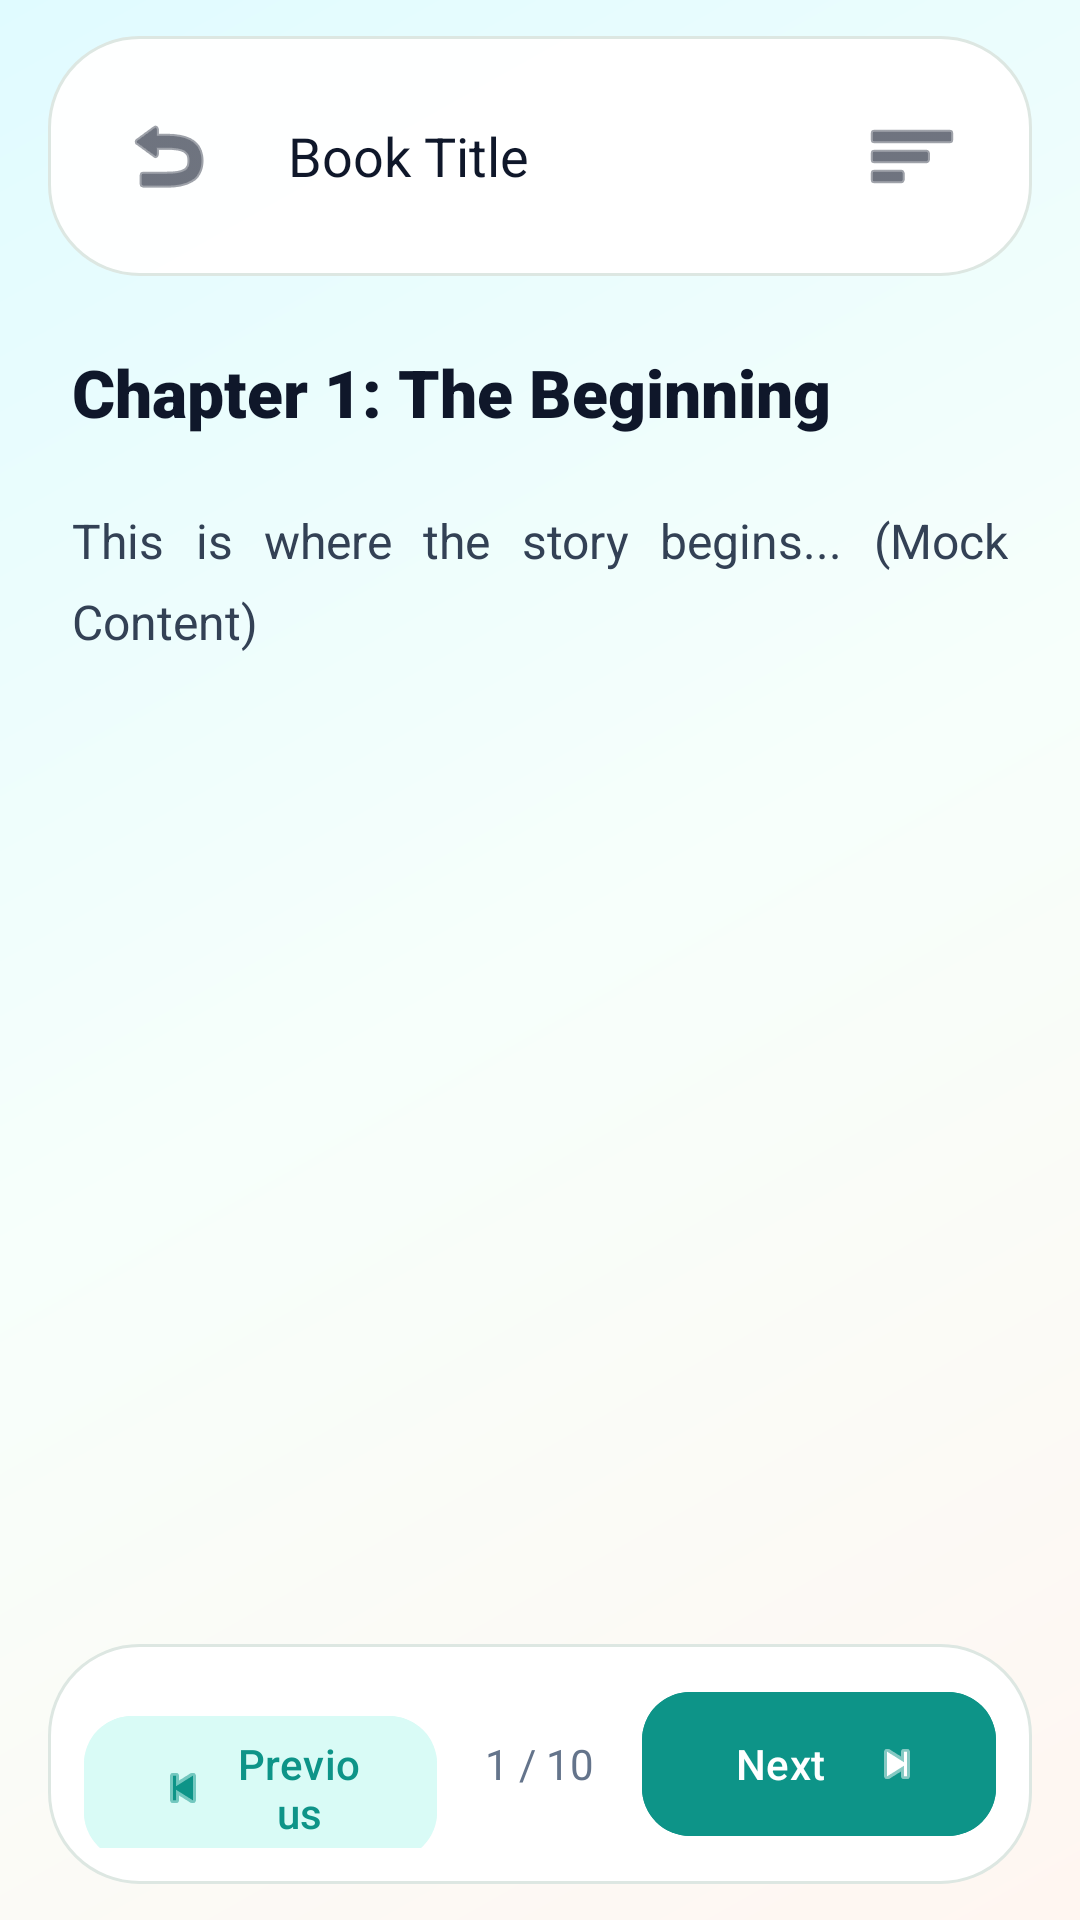

Where icons sit on this 1080x1920 app screen, as (left=x1, top=y1, right=x2, bottom=y2):
revert: (left=135, top=125, right=204, bottom=188)
sort by size: (left=871, top=130, right=953, bottom=183)
